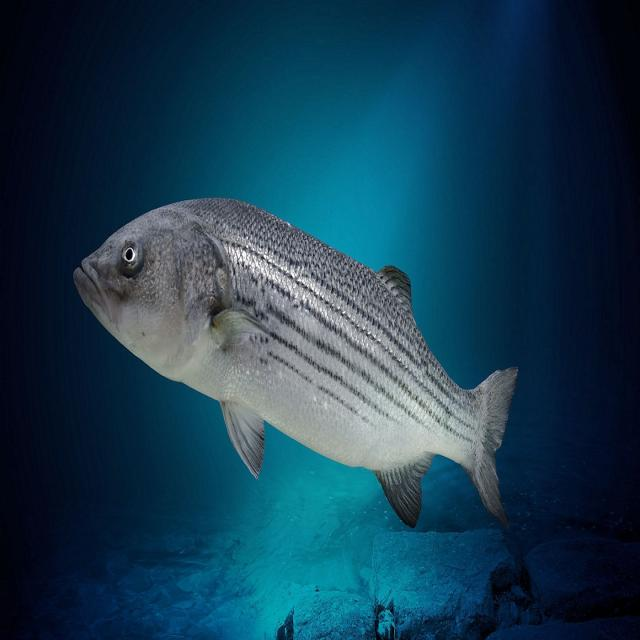Bass - Striped: (74, 198, 517, 527)
